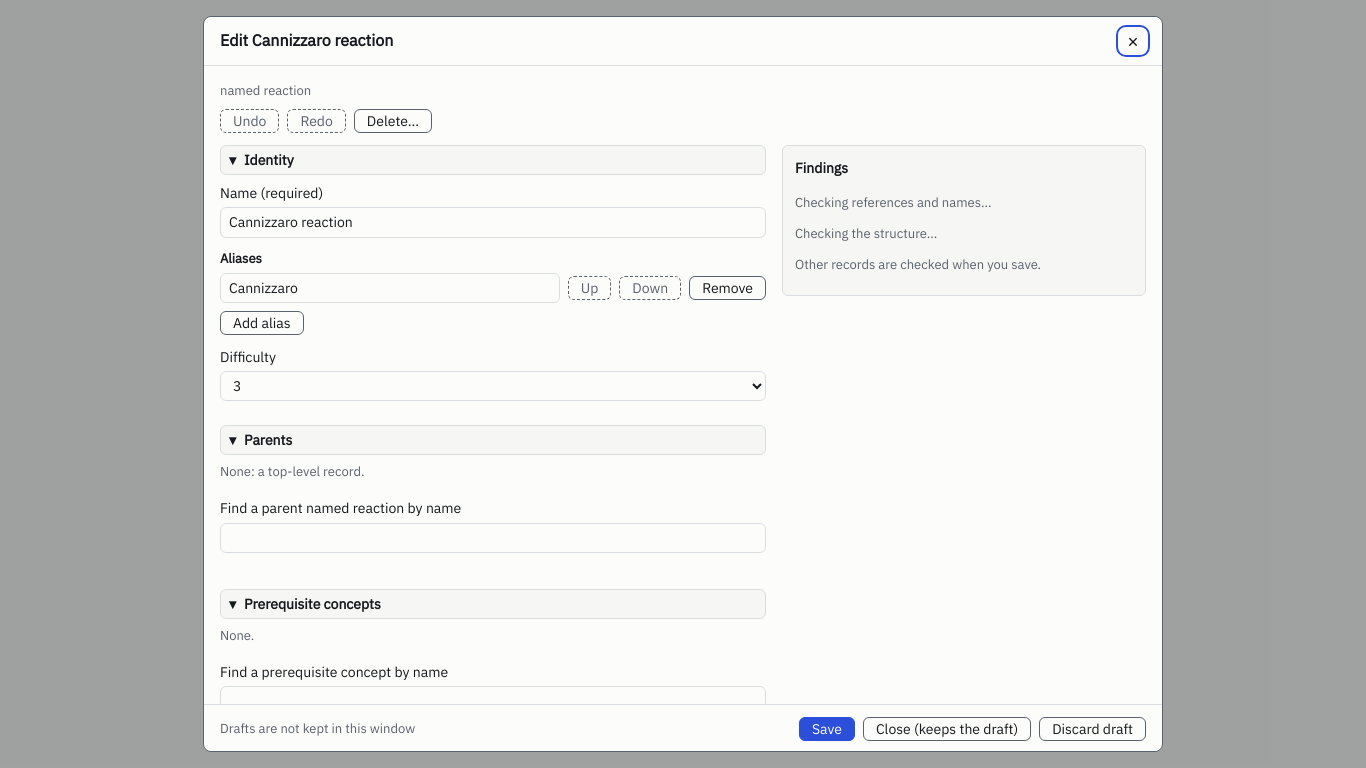
Test: editing a demo named reaction › adds a prerequisite concept through the picker, in its own list and not in the concepts
The width and height of the screenshot is (1366, 768).
Type "Dehydration" into the search field labelled "Find a prerequisite concept by name". click: [493, 701]
box: [220,686,766,717]
(page scrolled)
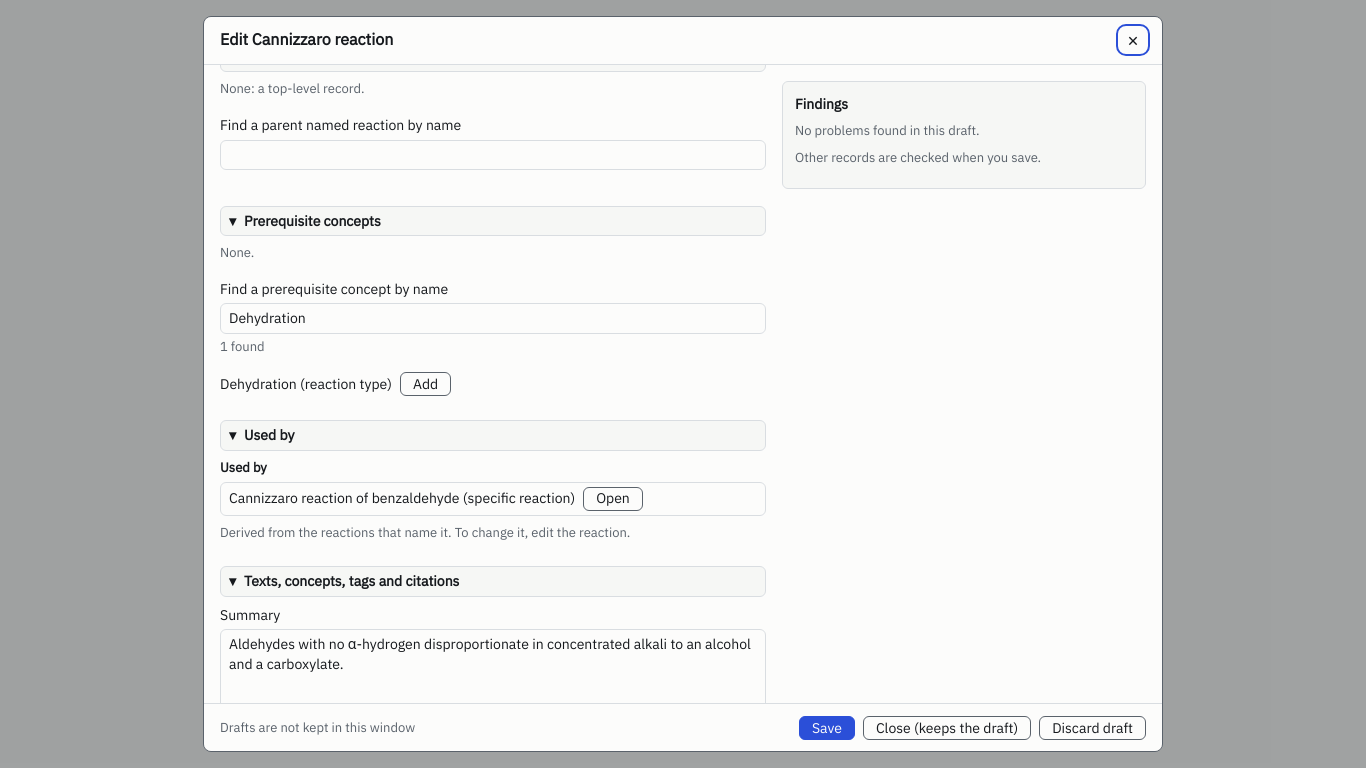
Click the button with aria-label "Add Dehydration". click: [426, 384]
box: [400,372,451,396]
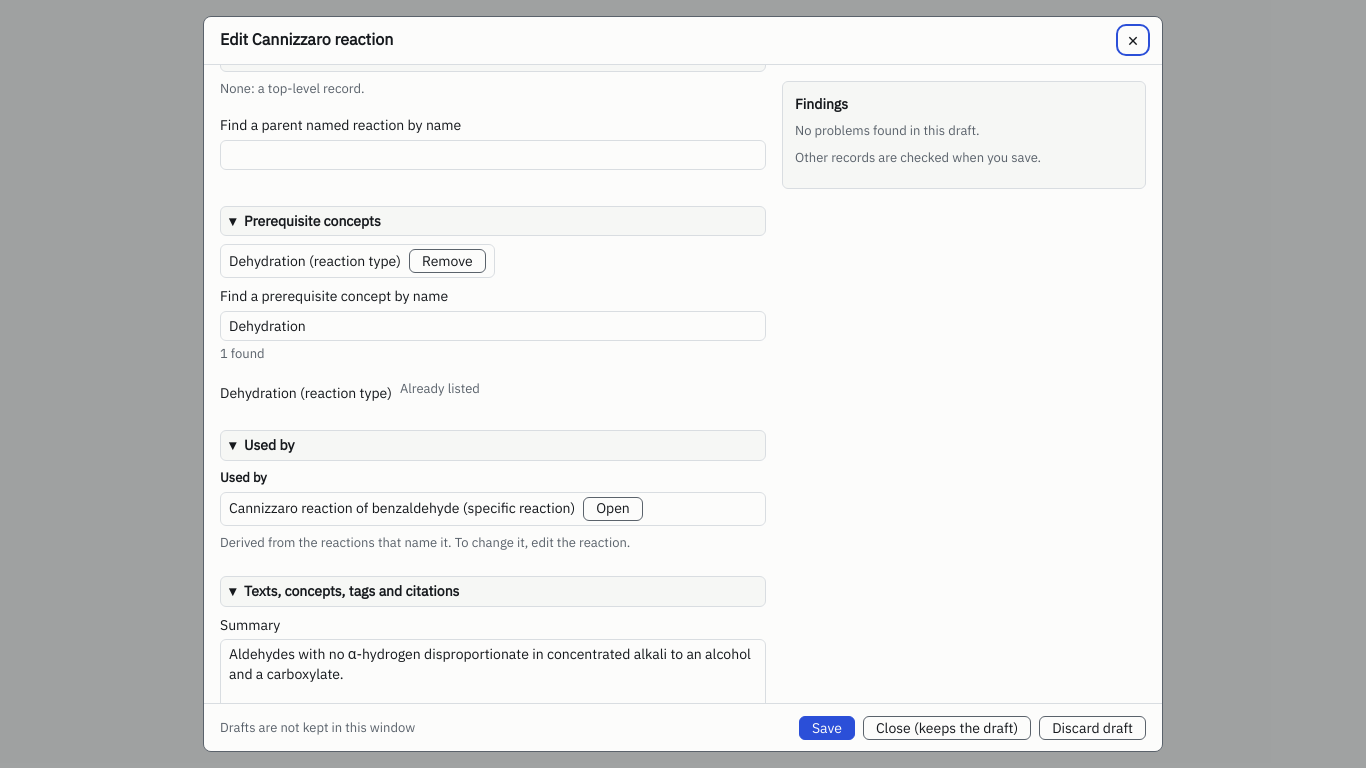
Expected: the 1st text "Dehydration (reaction type)" is shown, [229,251,401,271]
